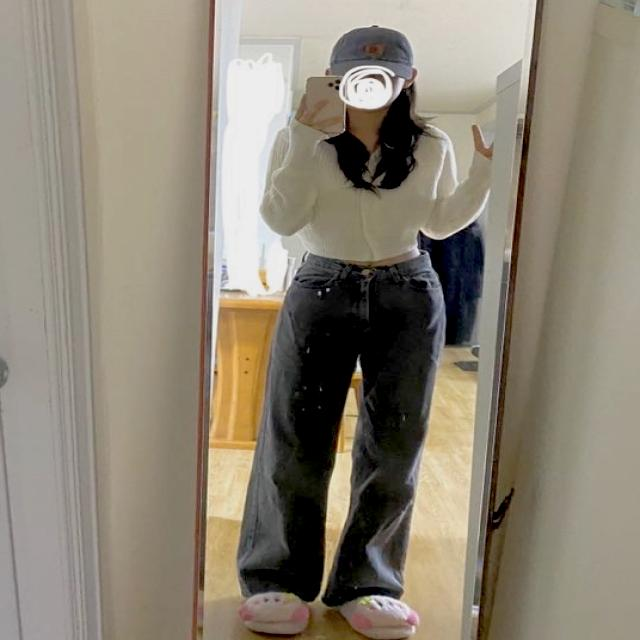cardigan: (262, 118, 495, 261)
denimpants: (236, 251, 444, 602)
